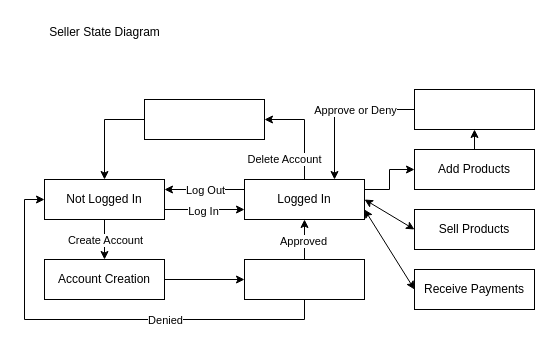
The diagram is 552 pixels wide and 345 high, and some of its shapes have lost their labels. Here are the shapes that lost their labels. From the top down, the centre of each, then its label:
At [204,119]: "Account Deletion".
At [474,109]: "Product Approval".
At [304,279]: "Account Approval".
